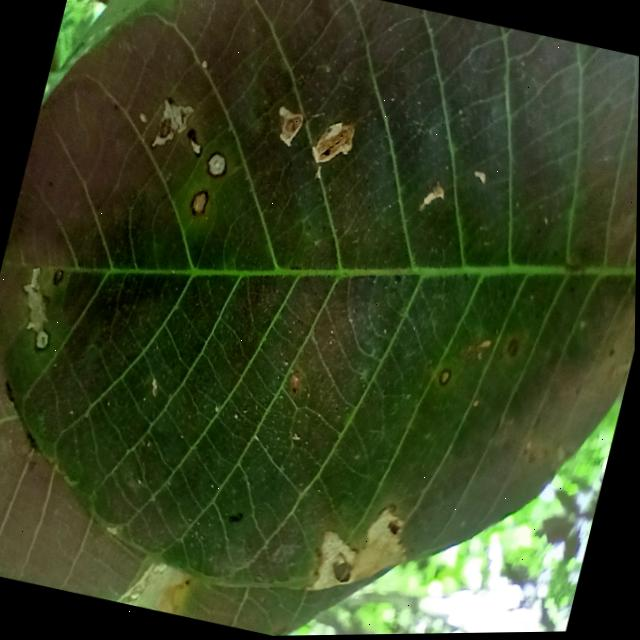Colletotrichum: (185, 186, 212, 221), (204, 149, 232, 182), (504, 337, 521, 361), (50, 266, 66, 288), (437, 369, 454, 388)
Leaf-Blight: (310, 492, 420, 609), (8, 263, 66, 349), (149, 96, 194, 154), (307, 118, 357, 170), (273, 106, 306, 149)
